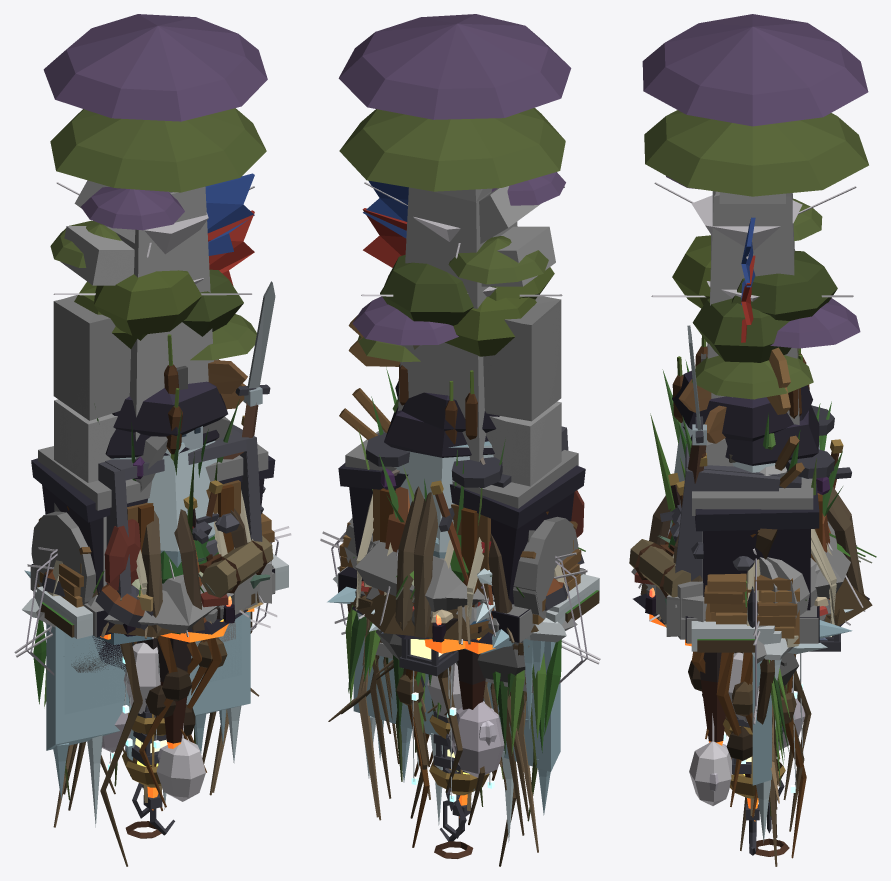
Rendered from clutter.glb.
3 renders of one model, left to right at view 1: azimuth 30°, elevation 25°; view 2: azimuth 150°, elevation 25°; view 3: azimuth 270°, elevation 25°, orthographic.
Parts seen in each view (by area): view 1: swamp_fungal_tree_b, swamp_fungal_tree_a, ruins_collapsed_arch_a, ruins_collapsed_arch_b, frozen_frozen_drape_b, ruins_obelisk_broken_b, swamp_mangrove_roots_b, frozen_frozen_adventurer_a, frozen_frozen_drape_a, swamp_mangrove_roots_a, meadow_island_roots_b, mines_tipped_cart_a (+39 smaller); view 2: swamp_fungal_tree_b, swamp_fungal_tree_a, ruins_collapsed_arch_a, ruins_obelisk_broken_b, swamp_mangrove_roots_b, ruins_collapsed_arch_b, abyss_broken_altar_a, swamp_mangrove_roots_a, frozen_frozen_drape_b, meadow_grass_drape_b, ruins_toppled_column_a, nests_hanging_egg_sacs_a (+42 smaller); view 3: swamp_fungal_tree_b, swamp_fungal_tree_a, swamp_mangrove_roots_b, ruins_obelisk_broken_b, mines_tipped_cart_a, swamp_mangrove_roots_a, meadow_island_roots_b, abyss_broken_altar_b, abyss_hovering_rock_b, ruins_altar_b, abyss_broken_altar_a, mines_plank_stack_b (+34 smaller).
Boxes of the visible parts, x1,y1,x2,y2 form: swamp_fungal_tree_b: (43,14,267,230); swamp_fungal_tree_a: (50,108,266,360); ruins_collapsed_arch_a: (53,204,271,601); ruins_collapsed_arch_b: (53,180,271,603); frozen_frozen_drape_b: (45,612,250,827); ruins_obelisk_broken_b: (116,186,273,568); swamp_mangrove_roots_b: (92,270,204,631); frozen_frozen_adventurer_a: (112,281,275,567); frozen_frozen_drape_a: (64,616,241,744); swamp_mangrove_roots_a: (74,269,259,634); meadow_island_roots_b: (100,636,221,866); mines_tipped_cart_a: (98,424,262,597); swamp_fungal_tree_b: (338,14,571,349); swamp_fungal_tree_a: (339,108,565,362); ruins_collapsed_arch_a: (479,195,561,486); ruins_obelisk_broken_b: (398,187,517,601); swamp_mangrove_roots_b: (380,254,554,630); ruins_collapsed_arch_b: (372,186,561,548); abyss_broken_altar_a: (338,463,585,642); swamp_mangrove_roots_a: (356,288,536,637); frozen_frozen_drape_b: (353,630,565,842); meadow_grass_drape_b: (345,590,599,790); ruins_toppled_column_a: (368,516,578,616); nests_hanging_egg_sacs_a: (427,675,501,777); swamp_fungal_tree_b: (642,14,868,352); swamp_fungal_tree_a: (644,110,868,399); swamp_mangrove_roots_b: (640,235,864,594); ruins_obelisk_broken_b: (675,191,799,607); mines_tipped_cart_a: (675,405,834,580); swamp_mangrove_roots_a: (669,298,857,563); meadow_island_roots_b: (688,652,811,858); abyss_broken_altar_b: (703,454,810,610); abyss_hovering_rock_b: (672,371,830,494); ruins_altar_b: (686,465,818,643); abyss_broken_altar_a: (685,481,819,642); mines_plank_stack_b: (707,573,799,638).
Bounding box in the file's own units: 1.17 × 3.36 × 0.8931.
